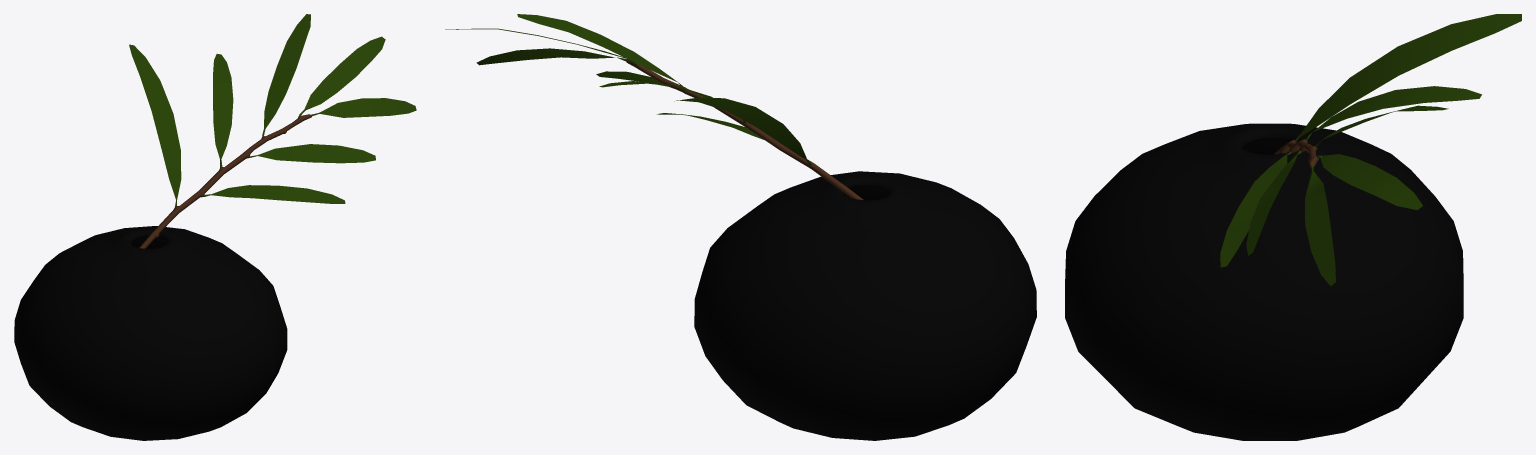
The model's file is DECO_Pot_Plants_01_03.FBX.
The picture shows the model from 3 angles, left to right: view 1: azimuth 30°, elevation 25°; view 2: azimuth 150°, elevation 25°; view 3: azimuth 270°, elevation 25°; orthographic projection. The views are drawn at different scales.
Visible parts, largest first — view 1: 19 Glass Pebble vase 3 sphere; view 2: 19 Glass Pebble vase 3 sphere; view 3: 19 Glass Pebble vase 3 sphere.
Part boxes in pixels (bbox=[...]): 19 Glass Pebble vase 3 sphere: bbox=[14, 14, 416, 440]; 19 Glass Pebble vase 3 sphere: bbox=[445, 14, 1036, 440]; 19 Glass Pebble vase 3 sphere: bbox=[1065, 14, 1521, 440].
Bounding box in the file's own units: 24.59 × 17.32 × 16.2.
